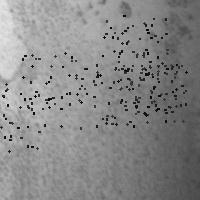pitted_surface: (76, 8, 194, 196), (1, 2, 88, 197), (75, 68, 135, 127), (0, 91, 60, 150), (19, 52, 78, 112), (106, 15, 166, 73), (127, 62, 185, 121), (96, 24, 151, 84), (118, 65, 176, 121), (0, 81, 30, 139)
